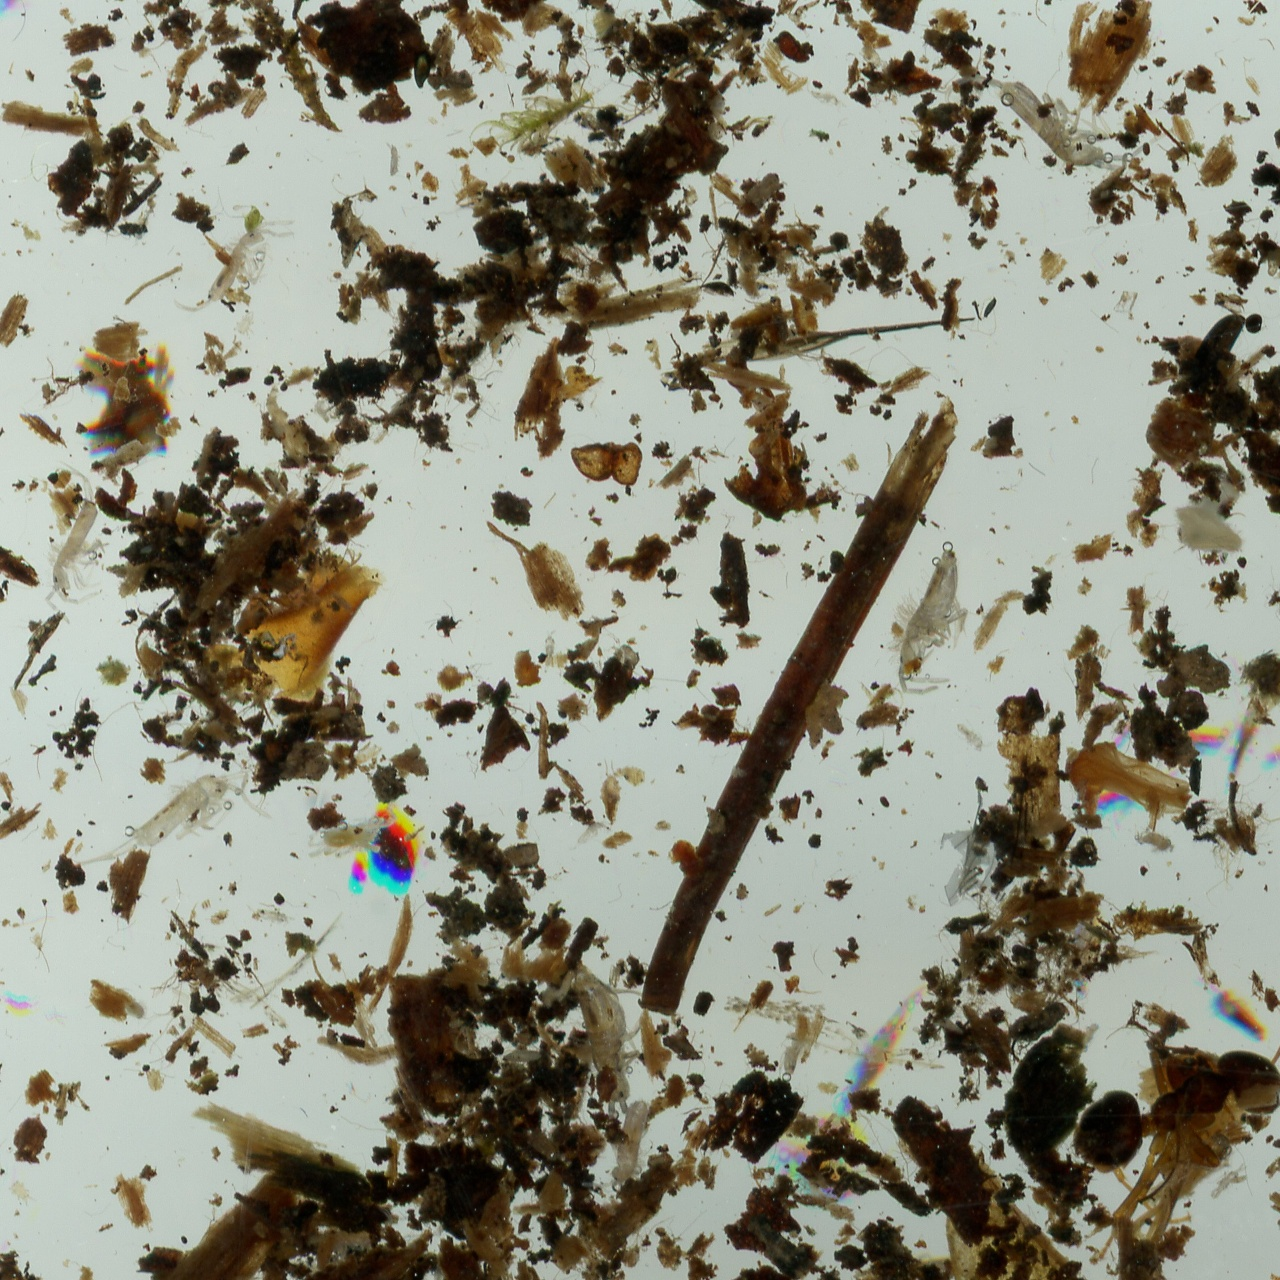arthropod: (931, 0, 1178, 234), (1061, 1026, 1280, 1250), (63, 740, 284, 915), (164, 183, 302, 343), (880, 540, 998, 708), (557, 951, 663, 1122), (23, 472, 137, 628), (577, 1088, 658, 1205), (302, 802, 400, 859), (559, 811, 617, 859), (947, 710, 998, 760), (775, 1007, 809, 1080), (110, 987, 161, 1023), (5, 1173, 42, 1214), (245, 900, 299, 928), (805, 83, 850, 114), (1132, 829, 1178, 857), (502, 1043, 546, 1067), (540, 628, 559, 678), (386, 139, 404, 179), (234, 308, 259, 338), (312, 392, 333, 425), (431, 1266, 442, 1280), (1144, 1073, 1151, 1077)
